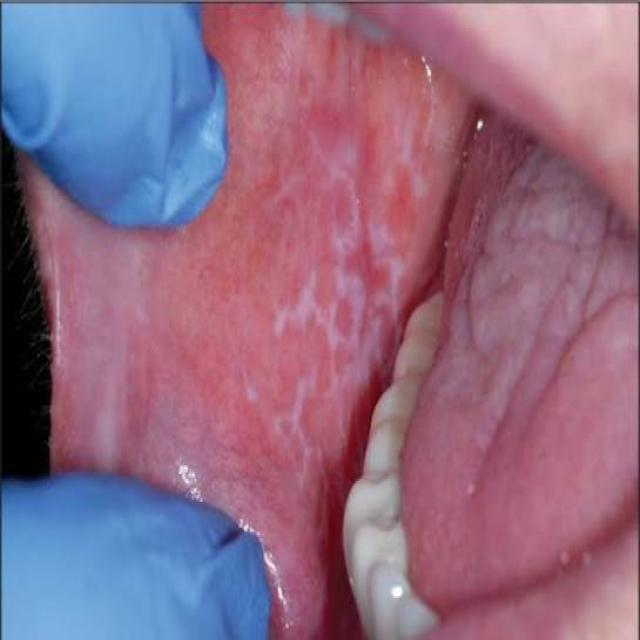leukoplakia-like-detection: (43, 191, 301, 635), (234, 92, 428, 511)
processing_area: (38, 4, 639, 638)
